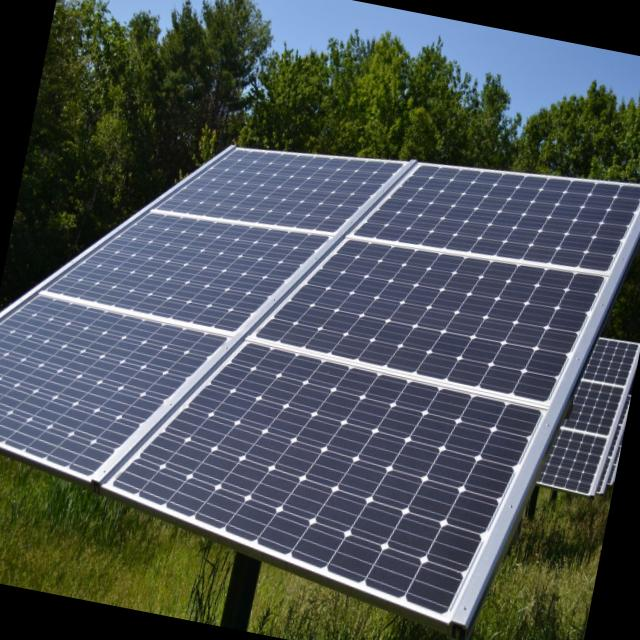no faulty: (0, 151, 640, 623)
